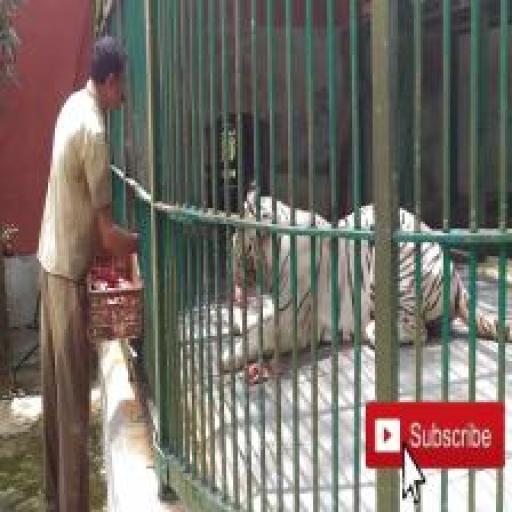Tiger: (219, 176, 512, 375)
